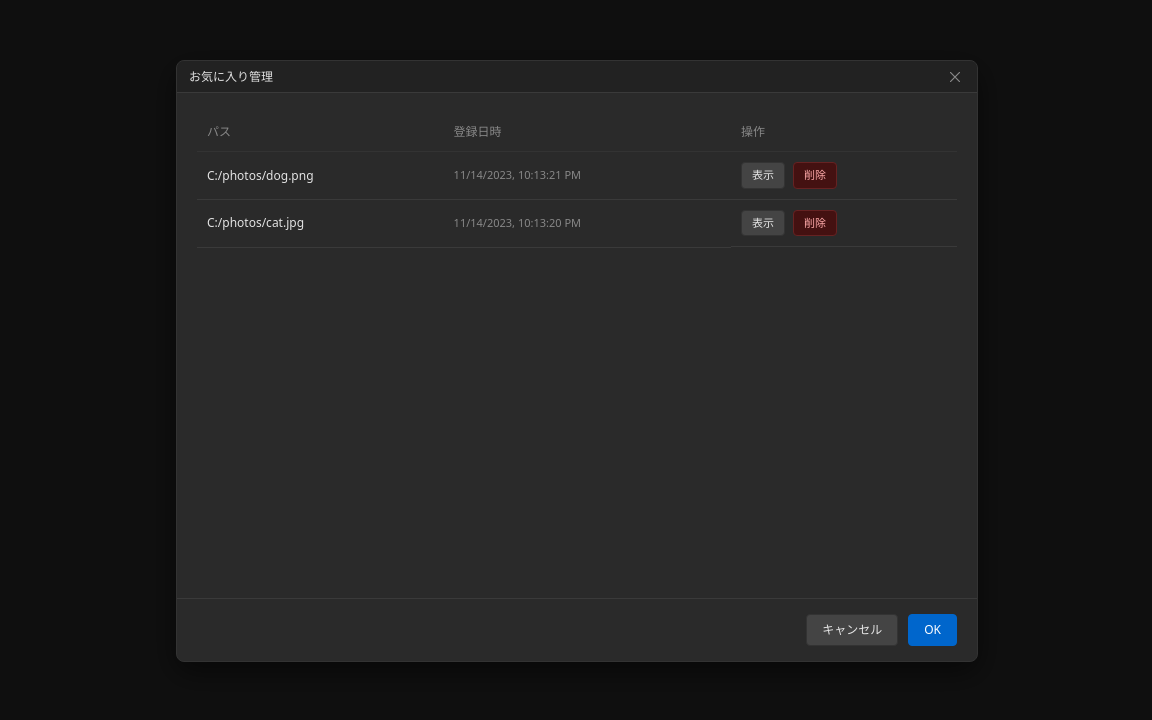
Scenario: FavoritesModal › パスヘッダーをクリックするとパス順にソートされ、インジケーターが表示されること
// 1回目クリック: 昇順
Click the column heading "パス". click: (320, 132)
box: [197,113,444,152]
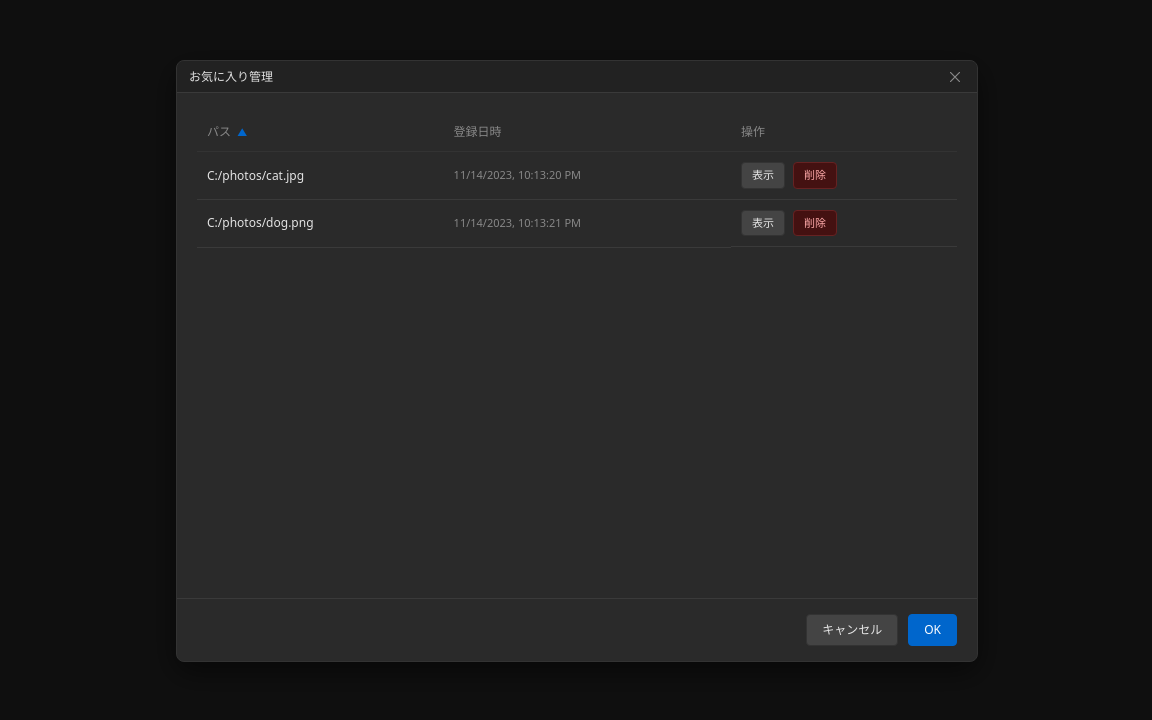
expect the row "C:/photos/cat.jpg 11/14/2023, 10:13:20 PM 表示 削除" is shown: met, box [197,152,957,200]
expect the text "▲" is shown: met, box [237,124,248,140]
// 2回目クリック: 降順
Click the column heading "パス". click: (320, 132)
box: [197,113,444,152]
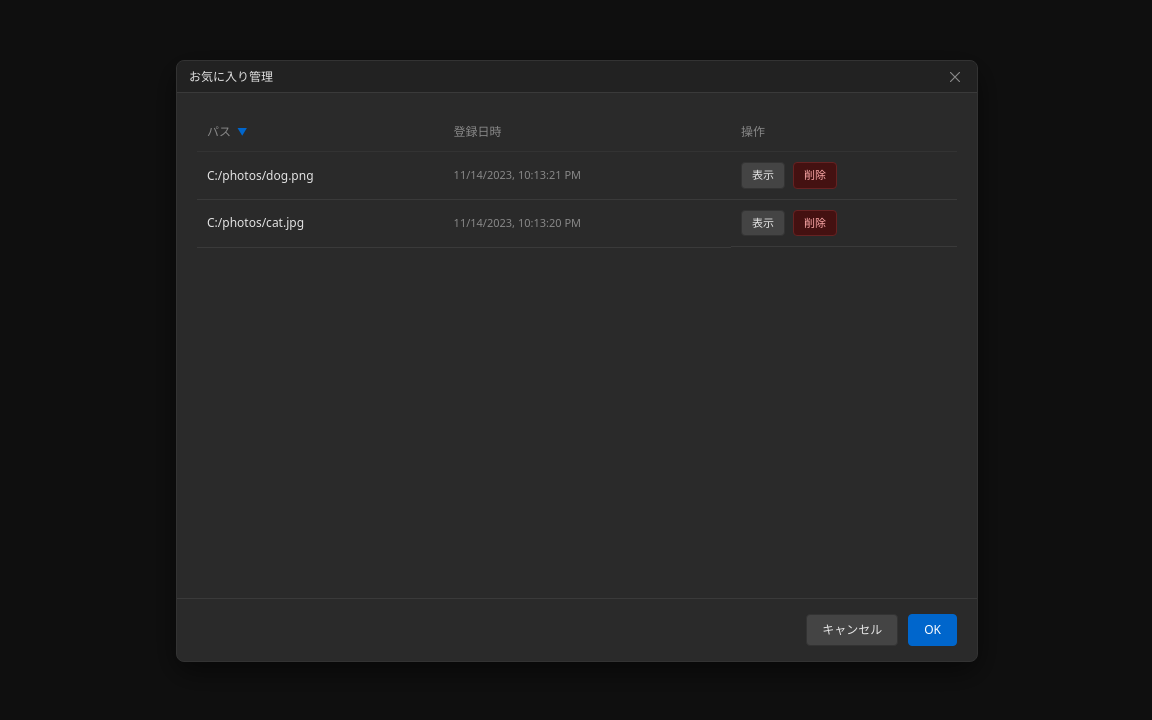
expect the row "C:/photos/dog.png 11/14/2023, 10:13:21 PM 表示 削除" is shown: met, box [197,152,957,200]
expect the text "▼" is shown: met, box [237,124,248,140]
